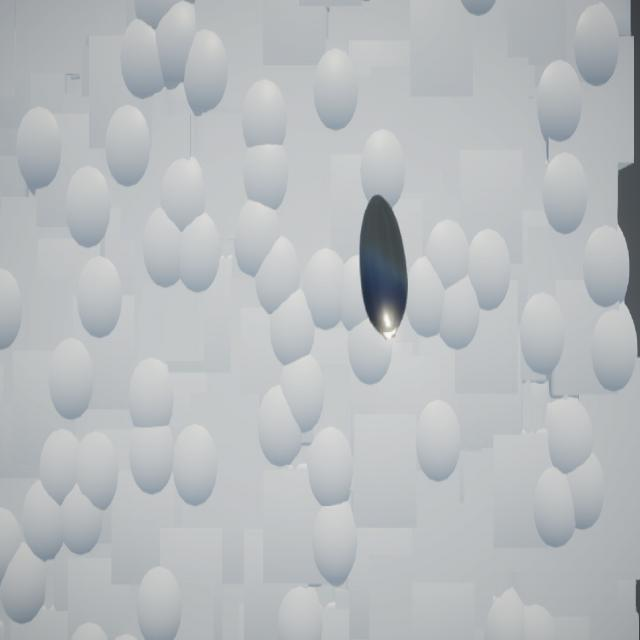top_spoon: (360, 196, 409, 342)
